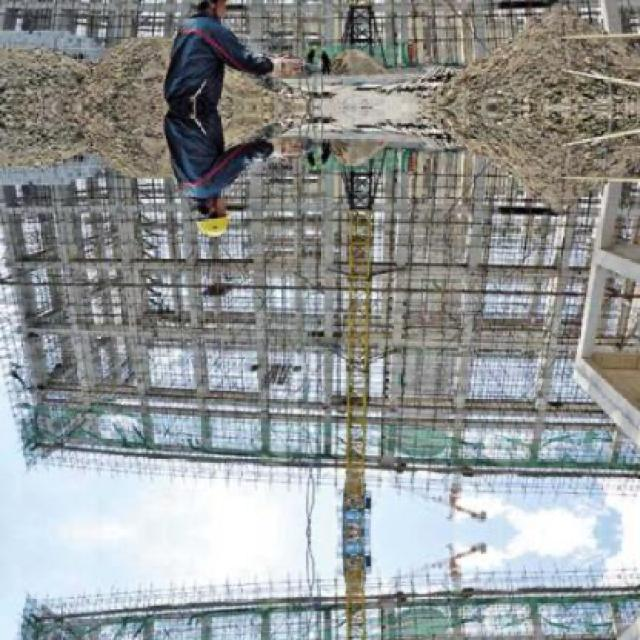con casco: (174, 189, 244, 259)
